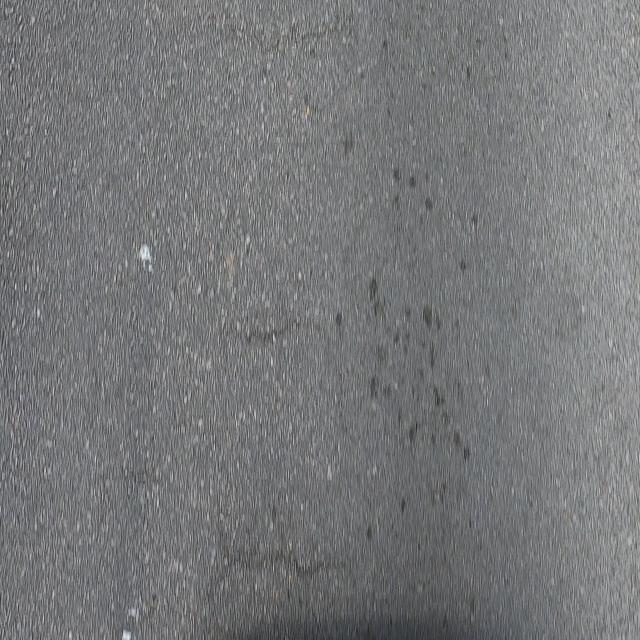Retak-Melintang: (194, 520, 350, 605), (239, 316, 334, 351)
